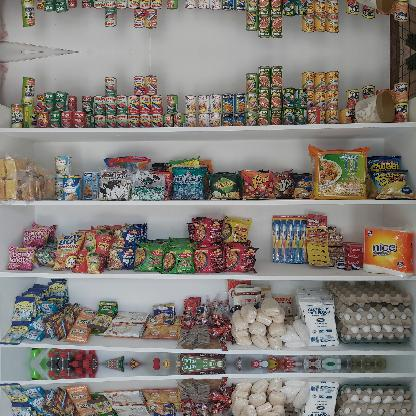Lady-s-Choice: (355, 91, 395, 122), (355, 0, 396, 13)
